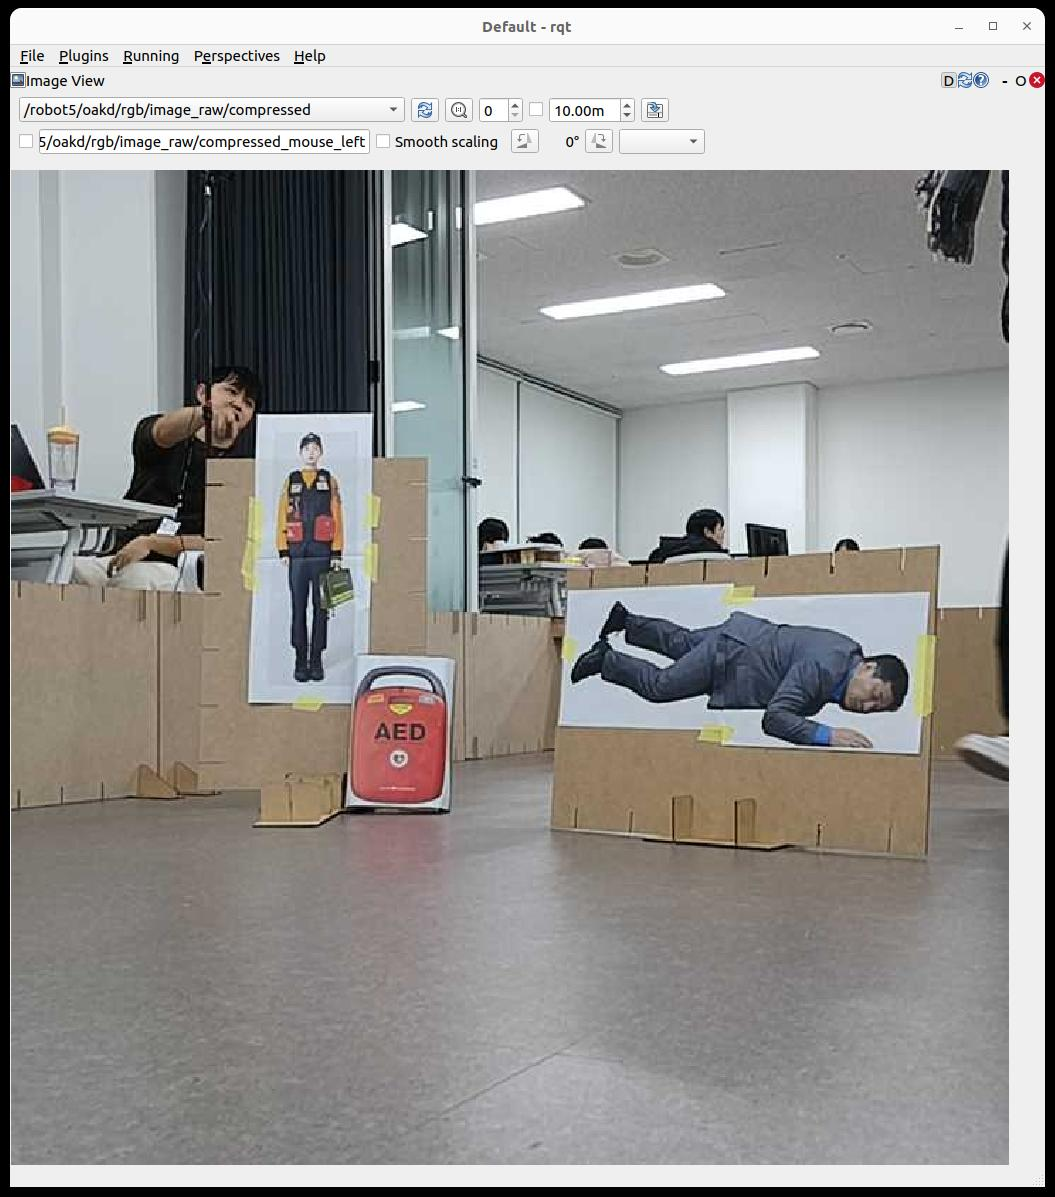AED: (345, 655, 454, 810)
Patient: (572, 603, 907, 746)
Responder: (275, 432, 345, 683)
